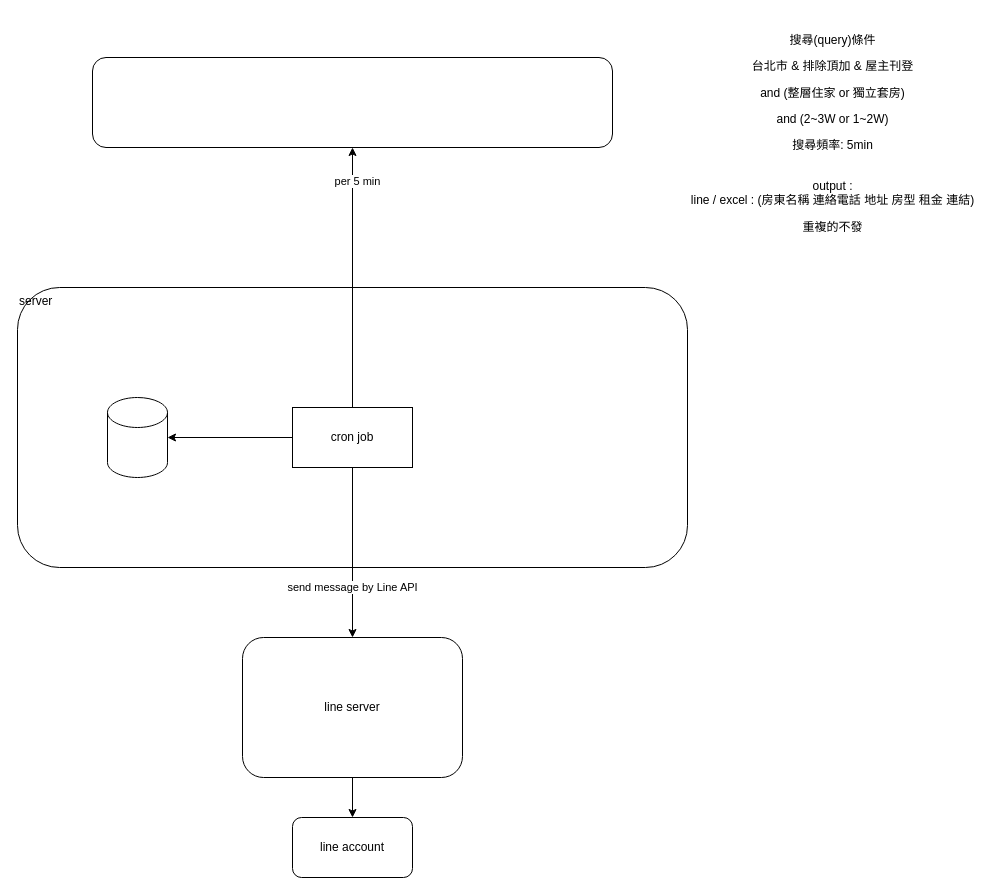
Image size: 1000x895. Some labels were removed from this diagram. The shapes that lost their labels are listed below. From the top down, each one's centre as x and y in pixels, then its label:
(352,102): 591 rent
(137,437): mem
